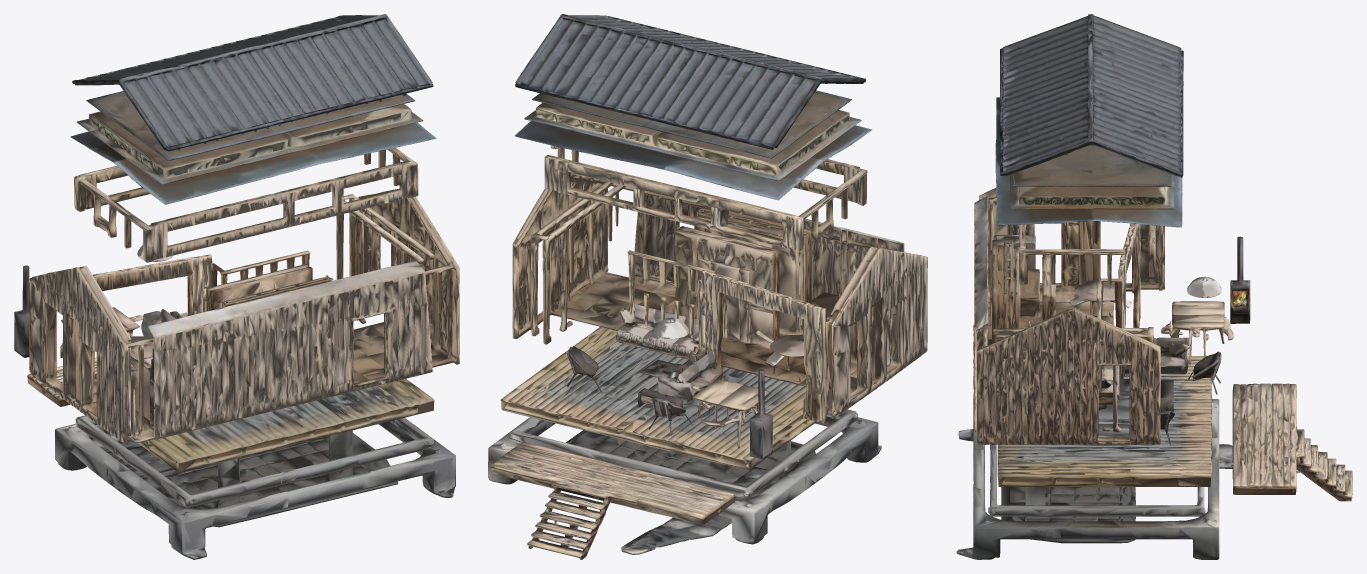
Rendered from cottage-mobile.glb.
The picture shows the model from 3 angles, left to right: view 1: azimuth 30°, elevation 25°; view 2: azimuth 150°, elevation 25°; view 3: azimuth 270°, elevation 25°; orthographic projection. The views are drawn at different scales.
Parts seen in each view (by area): view 1: layer_walls_interior, layer_foundation, layer_roof, layer_truss, layer_upper, layer_floors; view 2: layer_walls_interior, layer_foundation, layer_roof, layer_truss, layer_floors, layer_upper; view 3: layer_foundation, layer_walls_interior, layer_roof, layer_truss, layer_floors, layer_upper.
Boxes of the visible parts, x1,y1,x2,y2 form: layer_walls_interior: (14,188,459,434); layer_foundation: (27,357,455,559); layer_roof: (72,14,433,151); layer_truss: (70,91,436,204); layer_upper: (74,147,418,262); layer_floors: (14,311,459,443); layer_walls_interior: (512,172,927,435); layer_foundation: (488,327,881,559); layer_roof: (515,14,865,149); layer_truss: (515,90,871,200); layer_floors: (512,262,927,459); layer_upper: (544,145,867,250); layer_foundation: (956,356,1352,559); layer_walls_interior: (973,188,1250,436); layer_roof: (1000,14,1183,177); layer_truss: (995,97,1182,227); layer_floors: (973,279,1250,445); layer_upper: (1018,224,1155,284).
Size of the model in its own units: 0.7926 by 0.9789 by 0.8441.
1 material, 1 textured.
